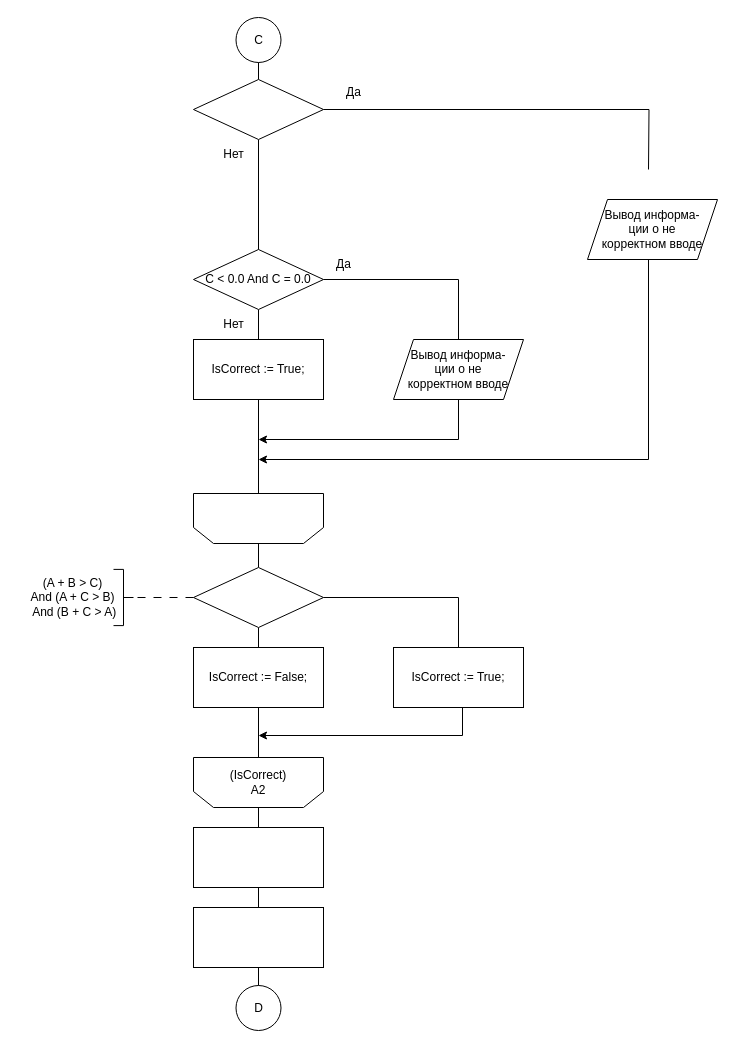
Some shapes in this 735 by 1048 pixel diagram are drawn without their labels. The box of each missing label's shape, as (x1, y1, x2, y2) in pixels:
(IsCorrect) A3: (192, 492, 324, 544)
CurrentSquare := Sqrt(P * (P - A) * (P - B) * (P - C));: (192, 906, 324, 968)
Except: (192, 78, 324, 140)
P := (A + B + C) / 2;: (192, 826, 324, 888)
